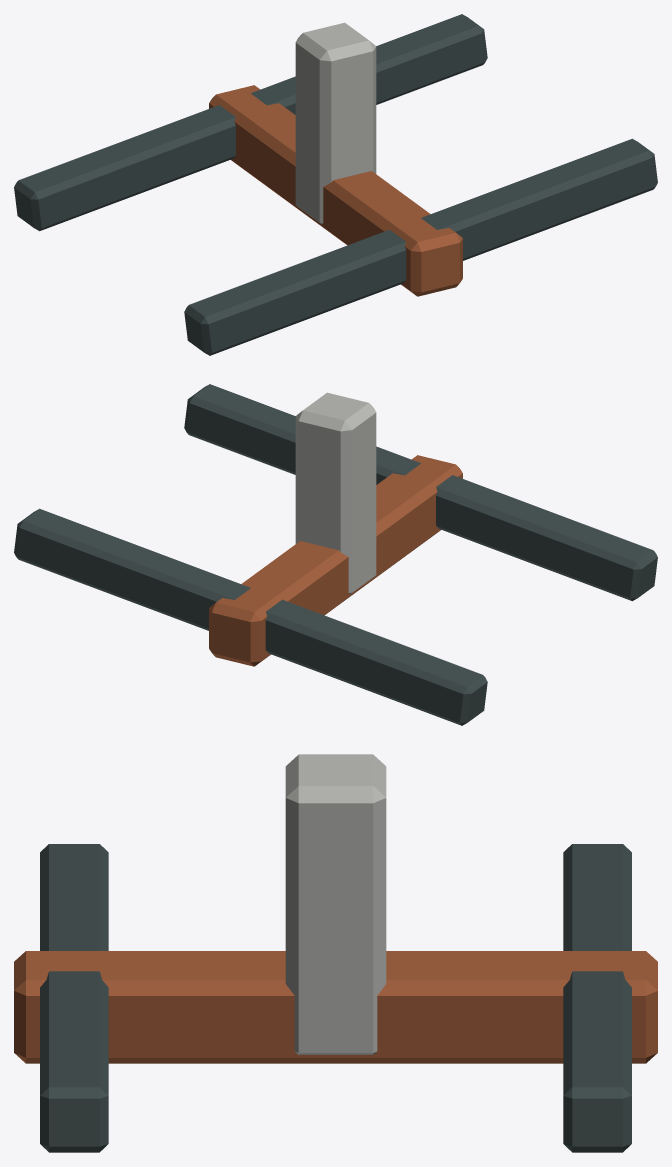
File: Engine_Mount.glb
3 views of the same model, one above another, from view 1: azimuth 30°, elevation 25°; view 2: azimuth 150°, elevation 25°; view 3: azimuth 270°, elevation 25° (orthographic). The views are drawn at different scales.
Visible parts, largest first — view 1: Engine_Mount; view 2: Engine_Mount; view 3: Engine_Mount.
Part boxes in pixels (bbox=[...]): Engine_Mount: bbox=[14, 14, 657, 355]; Engine_Mount: bbox=[14, 384, 657, 725]; Engine_Mount: bbox=[14, 754, 657, 1152].
Bounding box in the file's own units: 2.02 × 0.8316 × 1.6.
